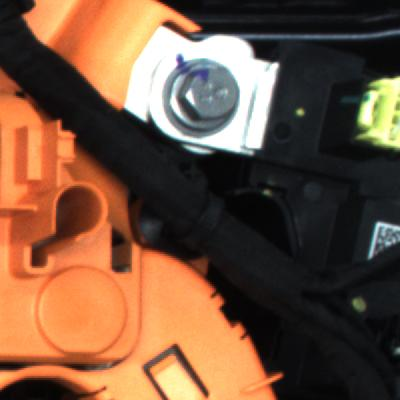nut_b: (152, 44, 253, 145)
